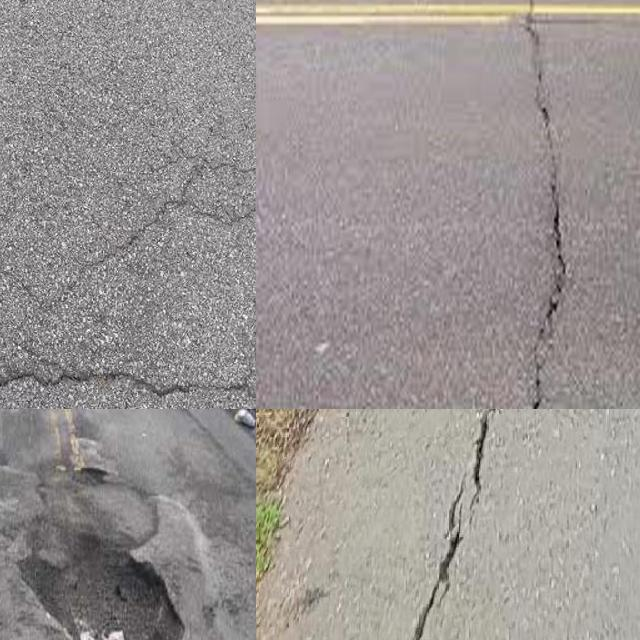Lubang: (18, 528, 188, 640)
Melintang: (0, 356, 256, 409)
Memanjang: (496, 0, 587, 409), (402, 409, 521, 640)
